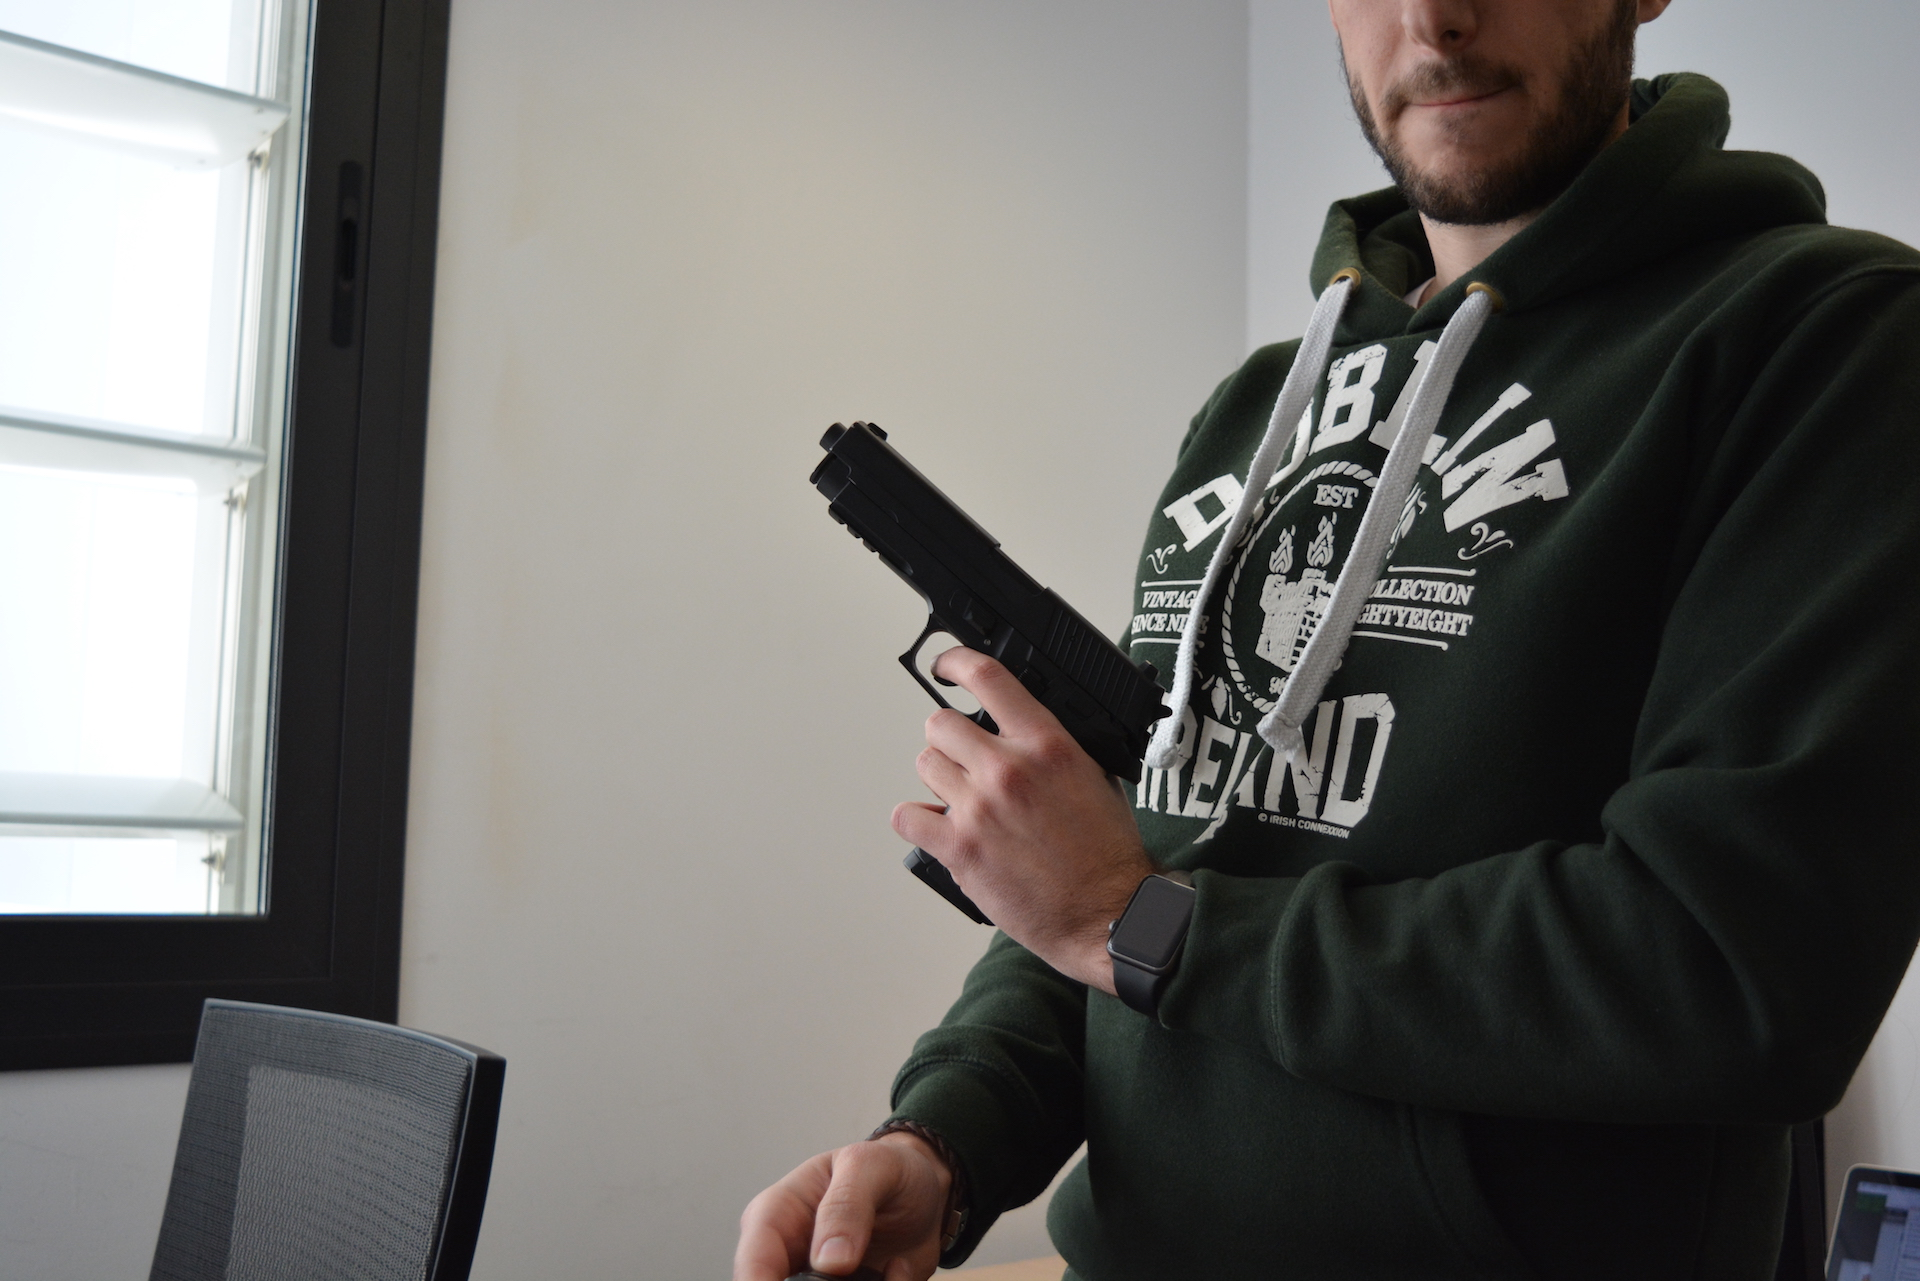pistol: (806, 416, 1177, 931)
